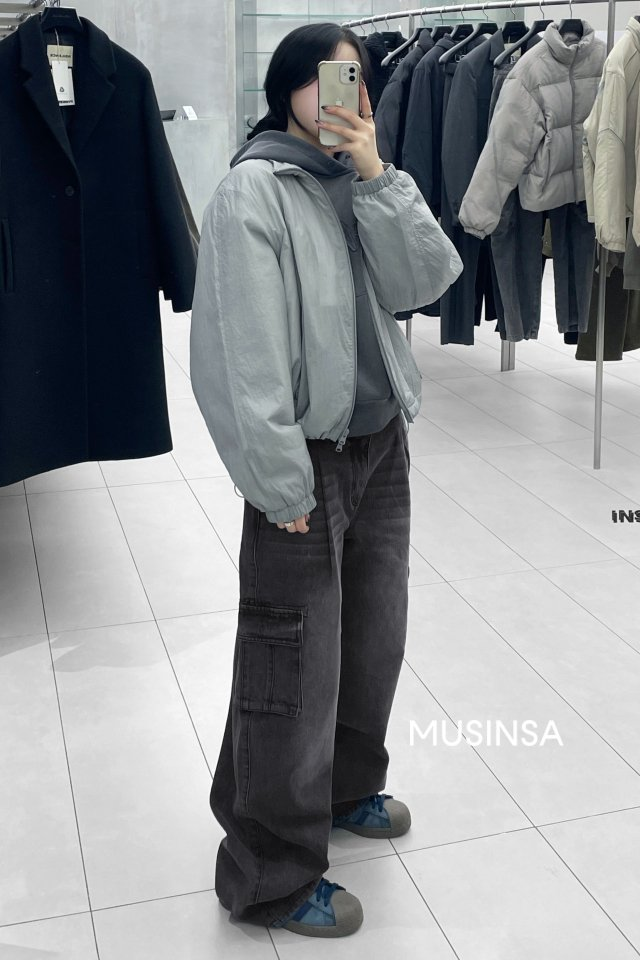Jeans: (205, 398, 422, 915)
Outer: (185, 127, 454, 518)
Shoes: (271, 780, 423, 949)
